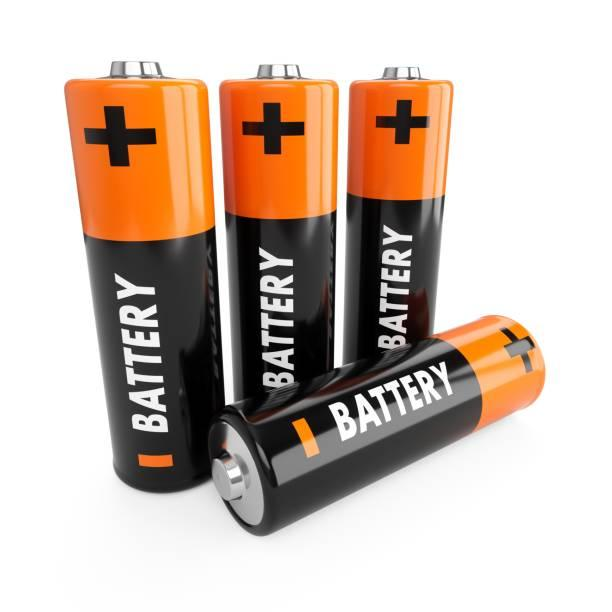battery: (54, 19, 209, 547), (204, 330, 559, 547), (214, 50, 338, 410), (336, 50, 470, 352)
